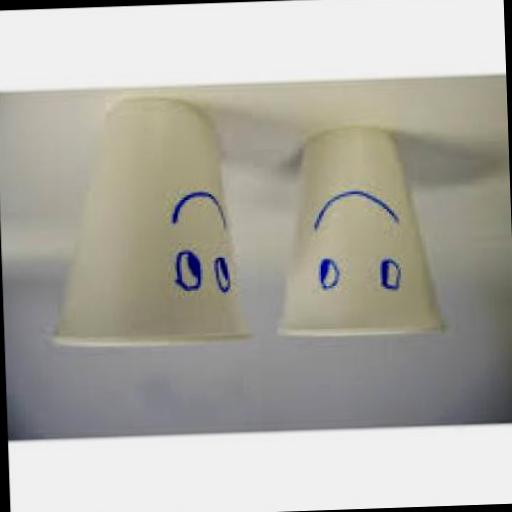paper: (40, 96, 246, 349), (267, 130, 440, 341)
